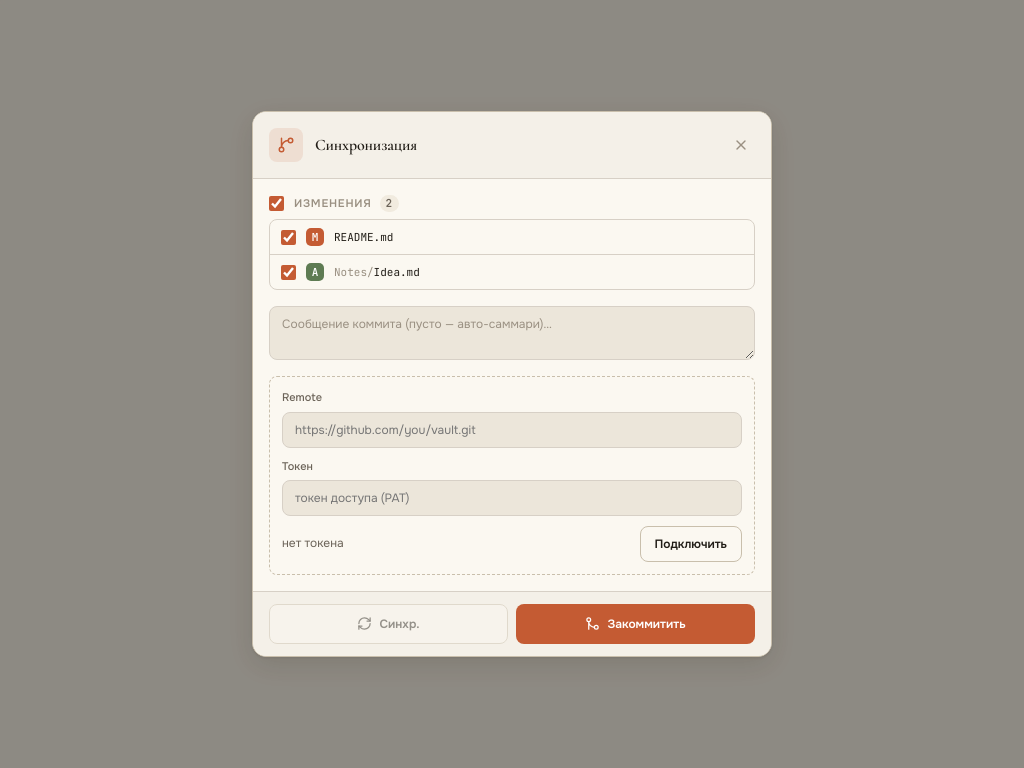
SyncPanel commit — ошибка не глотается (audit B13) › сбой setRemote показывает ошибку, а не тихо проглатывается
In the field with placeholder "https://github.com/you/vault.git": {"x": 512, "y": 430} left=282, top=412, right=742, bottom=448, type "https://example.com/repo.git"
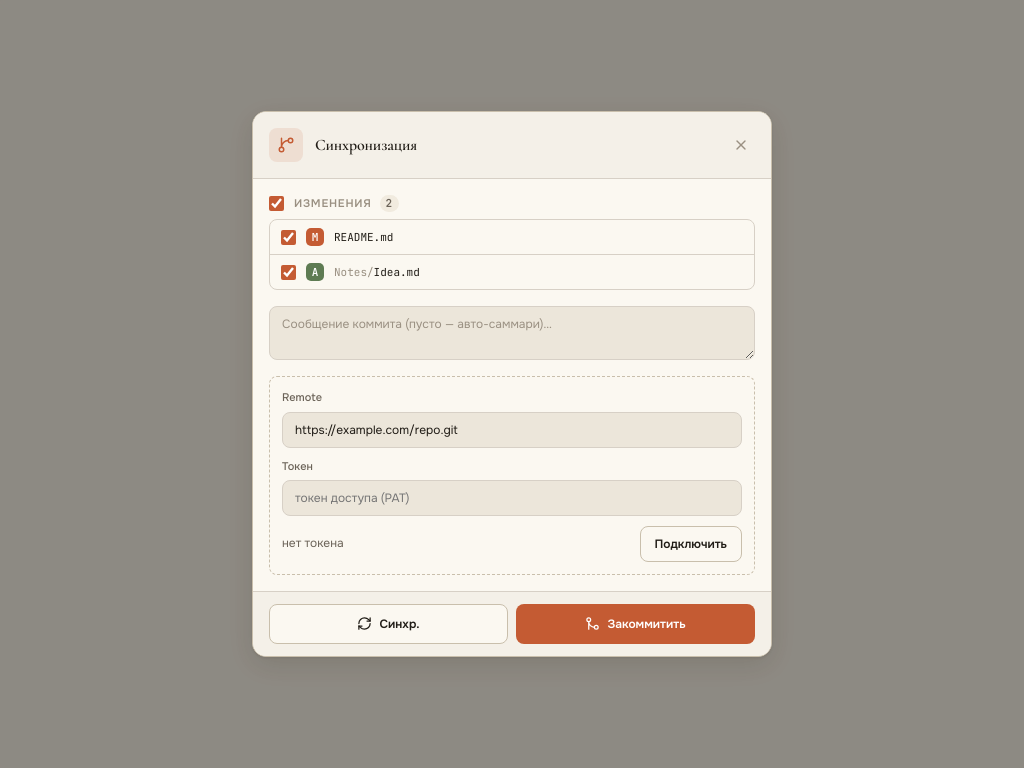
Click the button "Подключить": {"x": 691, "y": 544} left=640, top=526, right=742, bottom=562
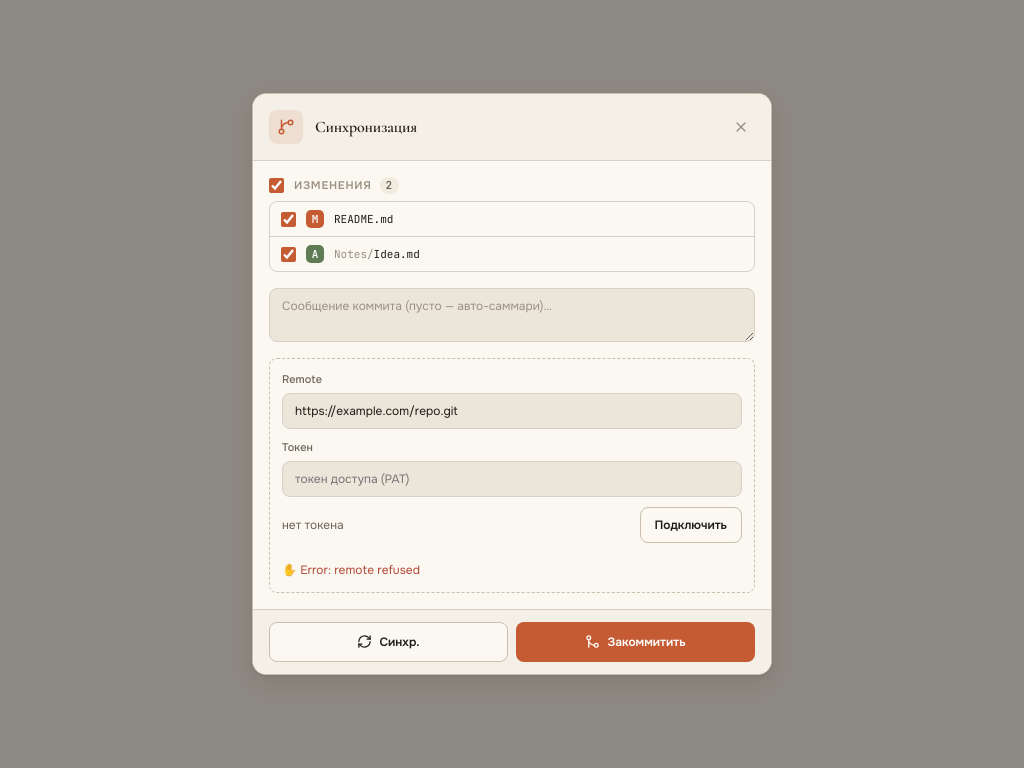
Now the text "✋ Error: remote refused" is shown, box left=282, top=562, right=420, bottom=578
